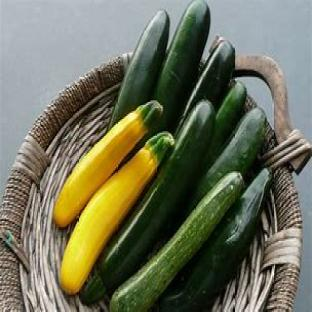Zucchini: (82, 101, 214, 304), (110, 173, 243, 311), (60, 133, 174, 293), (160, 169, 270, 311), (54, 101, 162, 227), (188, 109, 265, 210), (109, 11, 169, 128), (182, 41, 235, 120), (205, 82, 246, 168)
